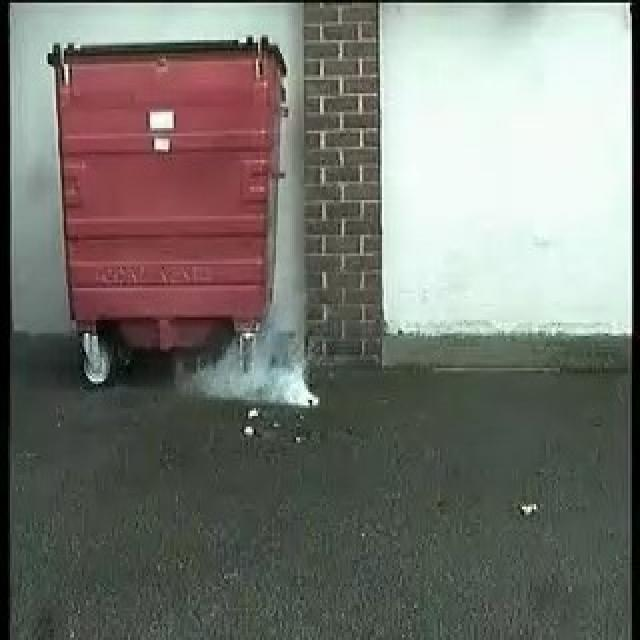smoke: (199, 322, 322, 404)
